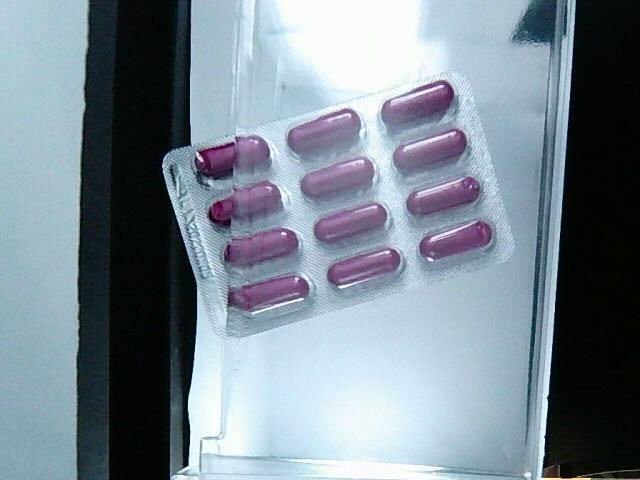Light Front: (162, 72, 518, 340)
Pill Front: (208, 179, 285, 230), (381, 80, 459, 127), (419, 218, 496, 265), (394, 128, 470, 175), (232, 272, 313, 316), (286, 109, 361, 154), (313, 199, 388, 244), (224, 226, 300, 269), (407, 174, 479, 219), (302, 156, 374, 201), (330, 244, 402, 289), (194, 135, 268, 178)
